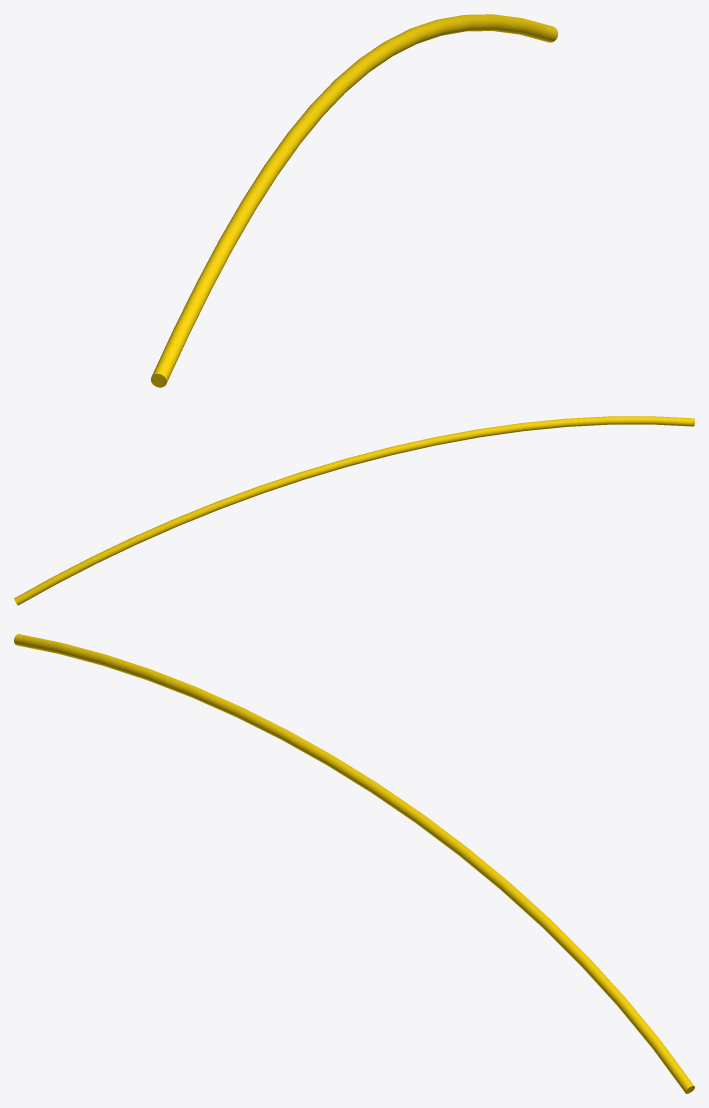
The model's file is Event_421115418_track_27.fbx.
3 views of the same model, one above another, from view 1: azimuth 30°, elevation 25°; view 2: azimuth 150°, elevation 25°; view 3: azimuth 270°, elevation 25° (orthographic). The views are drawn at different scales.
Visible parts, largest first — view 1: Model; view 2: Model; view 3: Model.
Boxes of the visible parts, bbox=[...] form: Model: bbox=[151, 14, 558, 387]; Model: bbox=[14, 416, 694, 605]; Model: bbox=[14, 634, 694, 1093].
Size of the model in its own units: 2.45 by 0.6992 by 2.35.
